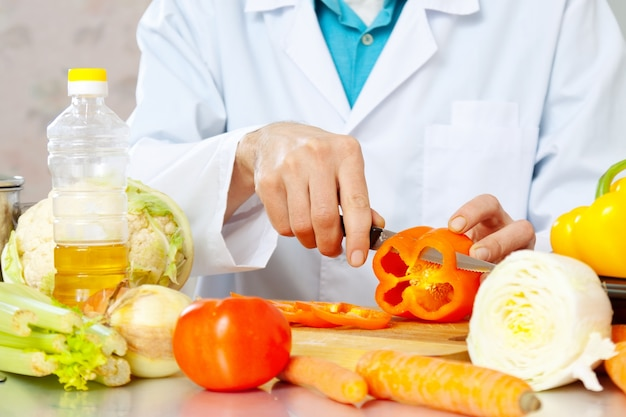knife: (370, 219, 497, 274)
